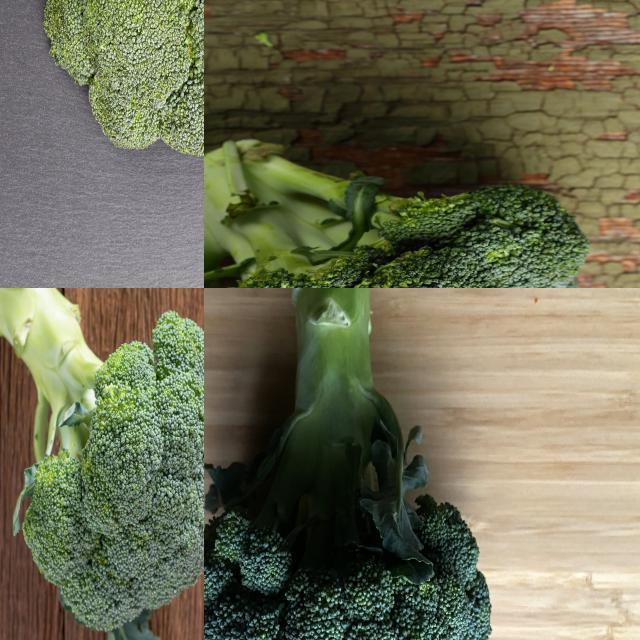broccoli: (204, 288, 496, 639), (0, 288, 203, 639), (204, 138, 593, 287), (40, 0, 203, 161)
